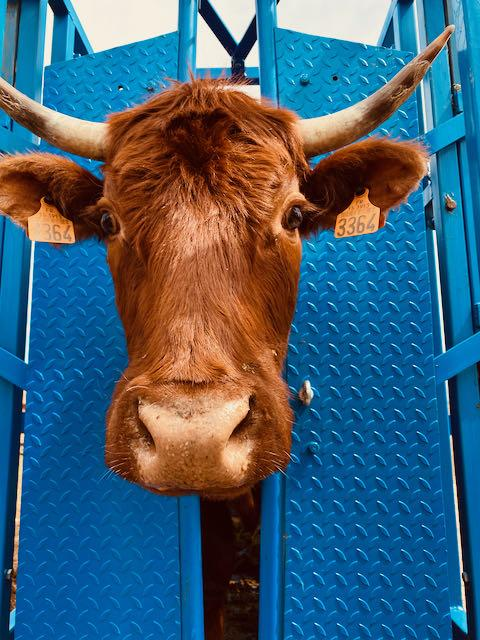muzzles: (89, 381, 308, 502)
